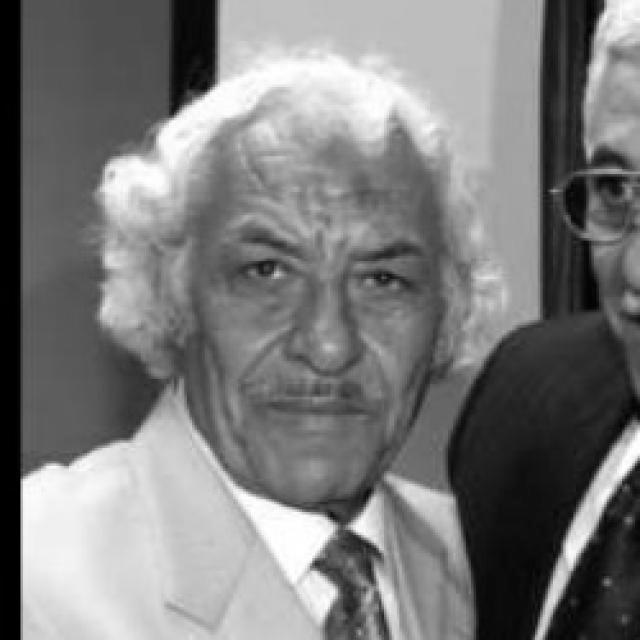real: (144, 60, 436, 499), (581, 26, 640, 438), (215, 233, 426, 314), (597, 167, 640, 215)
